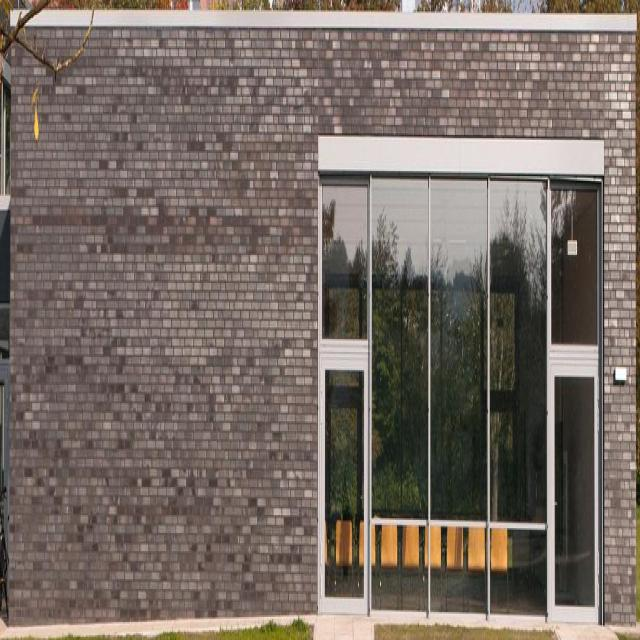door: (545, 347, 601, 625), (317, 343, 373, 618)
window: (317, 178, 603, 625)
